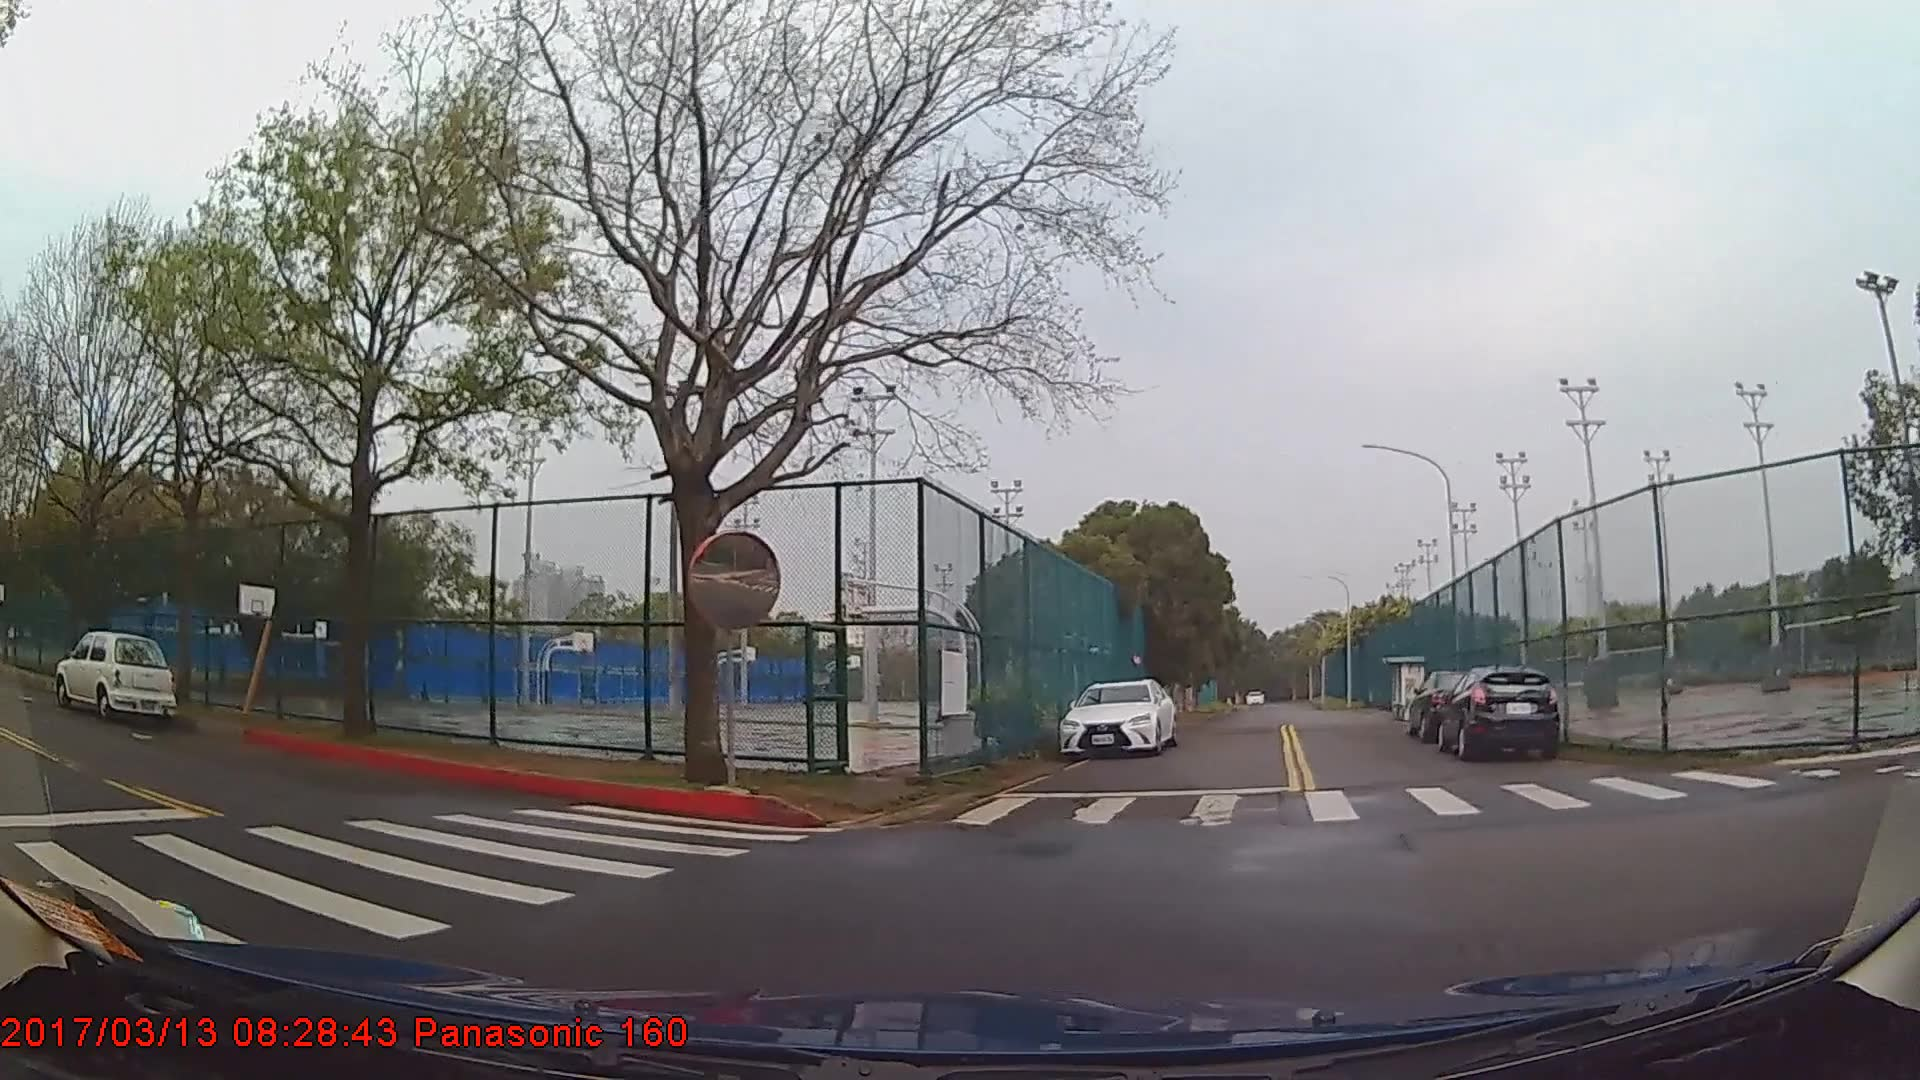vehicle: (51, 626, 182, 721), (1440, 666, 1565, 762), (1060, 679, 1175, 761)
